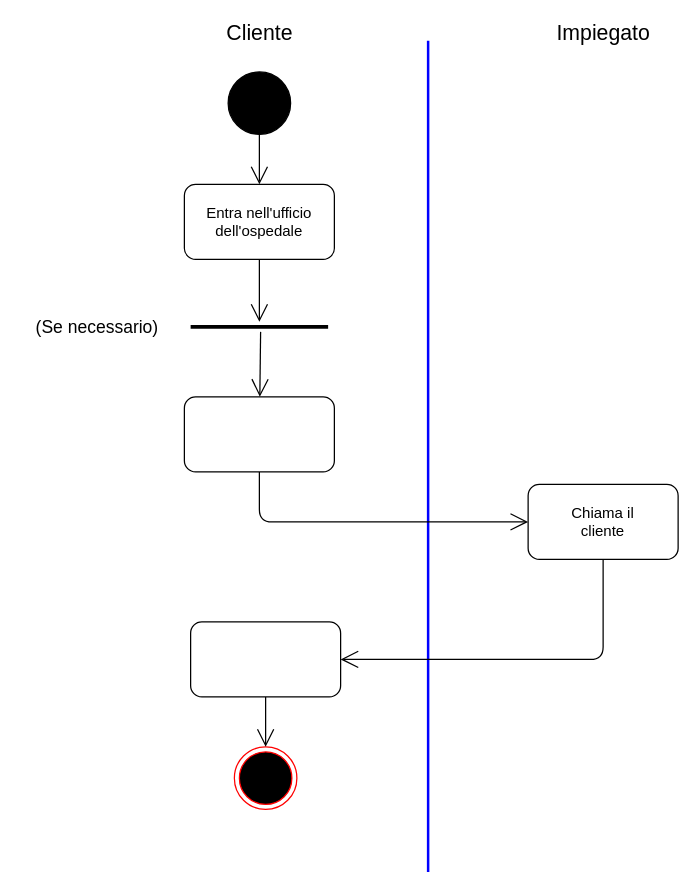
Image size: 700x894. Some labels were removed from this diagram. The shapes that lost their labels are listed below. From the top down, each one's box as (x1, y1, x2, y2) in pixels, then its label:
(183, 396, 334, 472): Aspetta il suo turno
(189, 621, 341, 697): Viene servito
